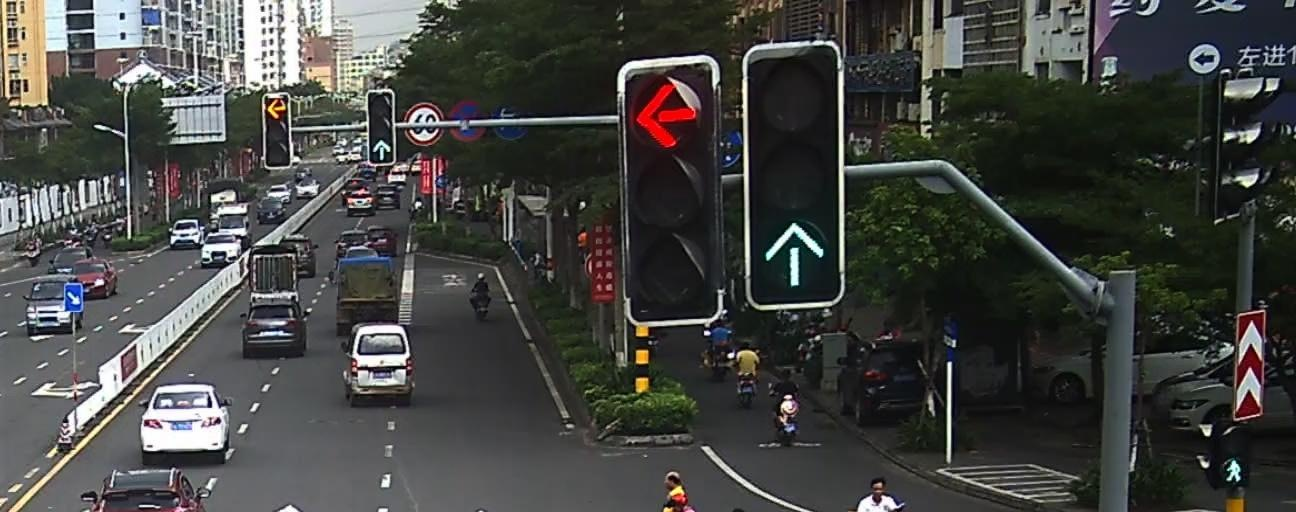greenpeople: (1222, 455, 1248, 481)
greenstraight: (757, 218, 829, 290), (370, 139, 393, 162)
redleft: (635, 81, 702, 148), (266, 95, 290, 119)
